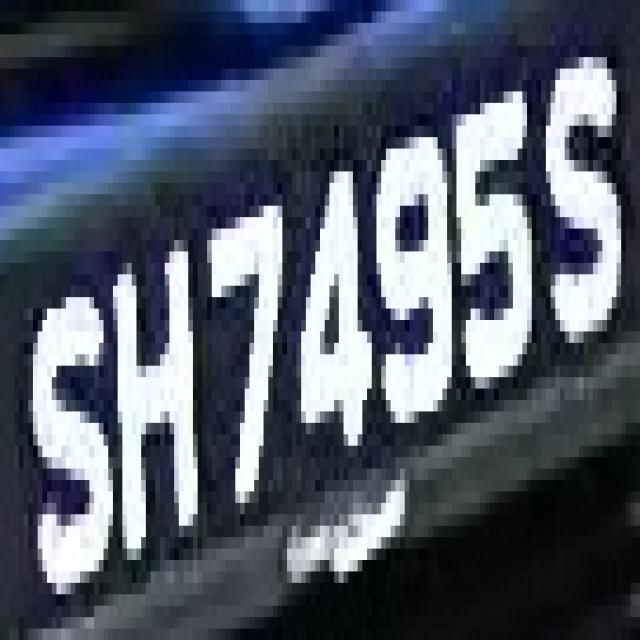4: (278, 137, 381, 514)
5: (452, 103, 532, 388)
7: (202, 183, 287, 491)
9: (358, 103, 457, 480)
H: (113, 217, 198, 560)
S: (19, 263, 122, 617), (522, 46, 622, 354)
